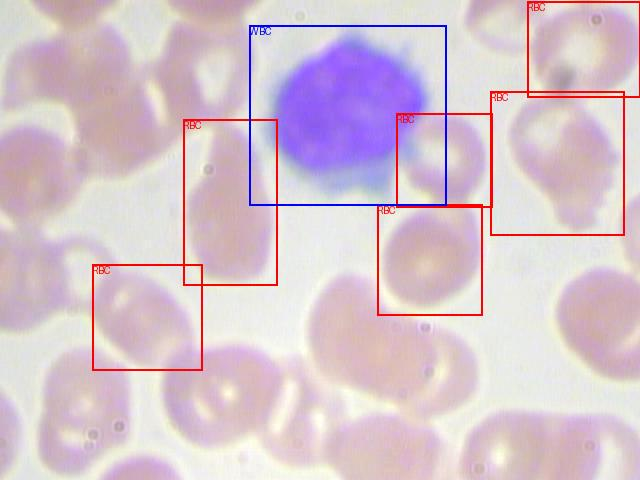RBC: (490, 91, 624, 235), (183, 119, 277, 285), (92, 264, 202, 370), (377, 204, 482, 315), (527, 1, 640, 97), (396, 113, 492, 207)
WBC: (249, 25, 446, 205)
